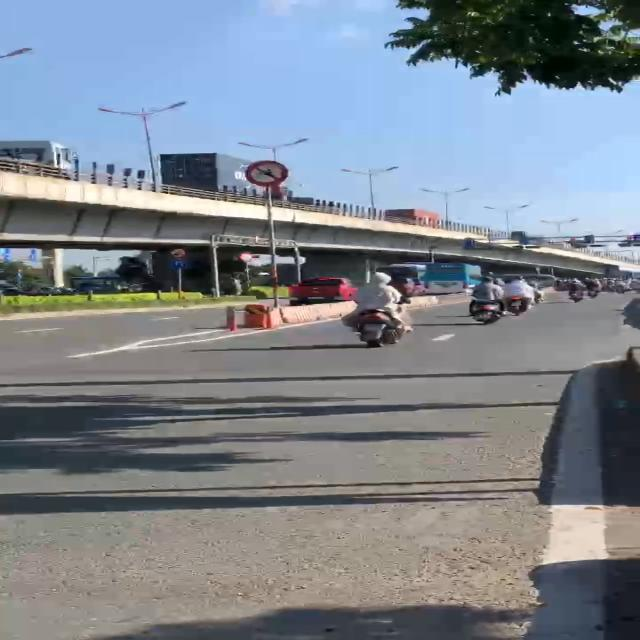Bien bao cam xe may: (236, 157, 301, 190)
